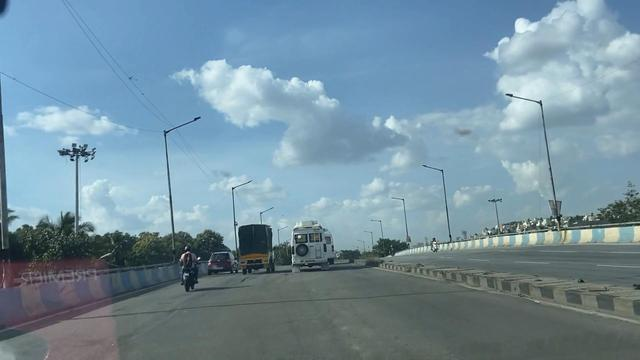HMV: (229, 215, 281, 273)
LMV: (177, 245, 201, 288), (201, 250, 240, 273)
